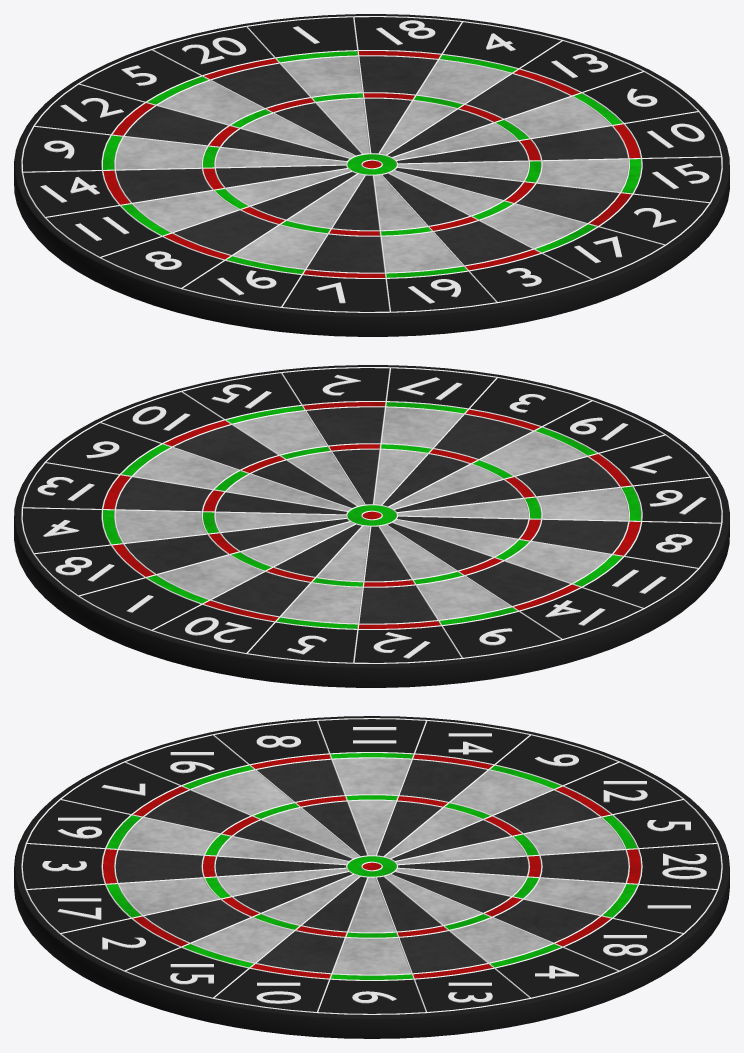
File: dart_board.fbx
3 renders of one model, top to bottom at view 1: azimuth 30°, elevation 25°; view 2: azimuth 150°, elevation 25°; view 3: azimuth 270°, elevation 25°, orthographic.
Visible parts, largest first — view 1: dart_board; view 2: dart_board; view 3: dart_board.
Part boxes in pixels (<box>): dart_board: <box>14,14,729,336</box>; dart_board: <box>14,365,729,687</box>; dart_board: <box>14,716,729,1038</box>.
Size of the model in its own units: 45.1 by 1.55 by 45.1.
Materials: 3 (1 with a texture image).
